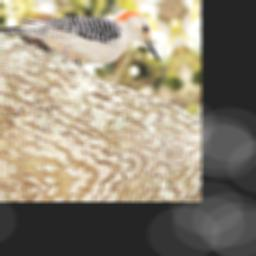Woodpecker: (0, 0, 168, 105)
